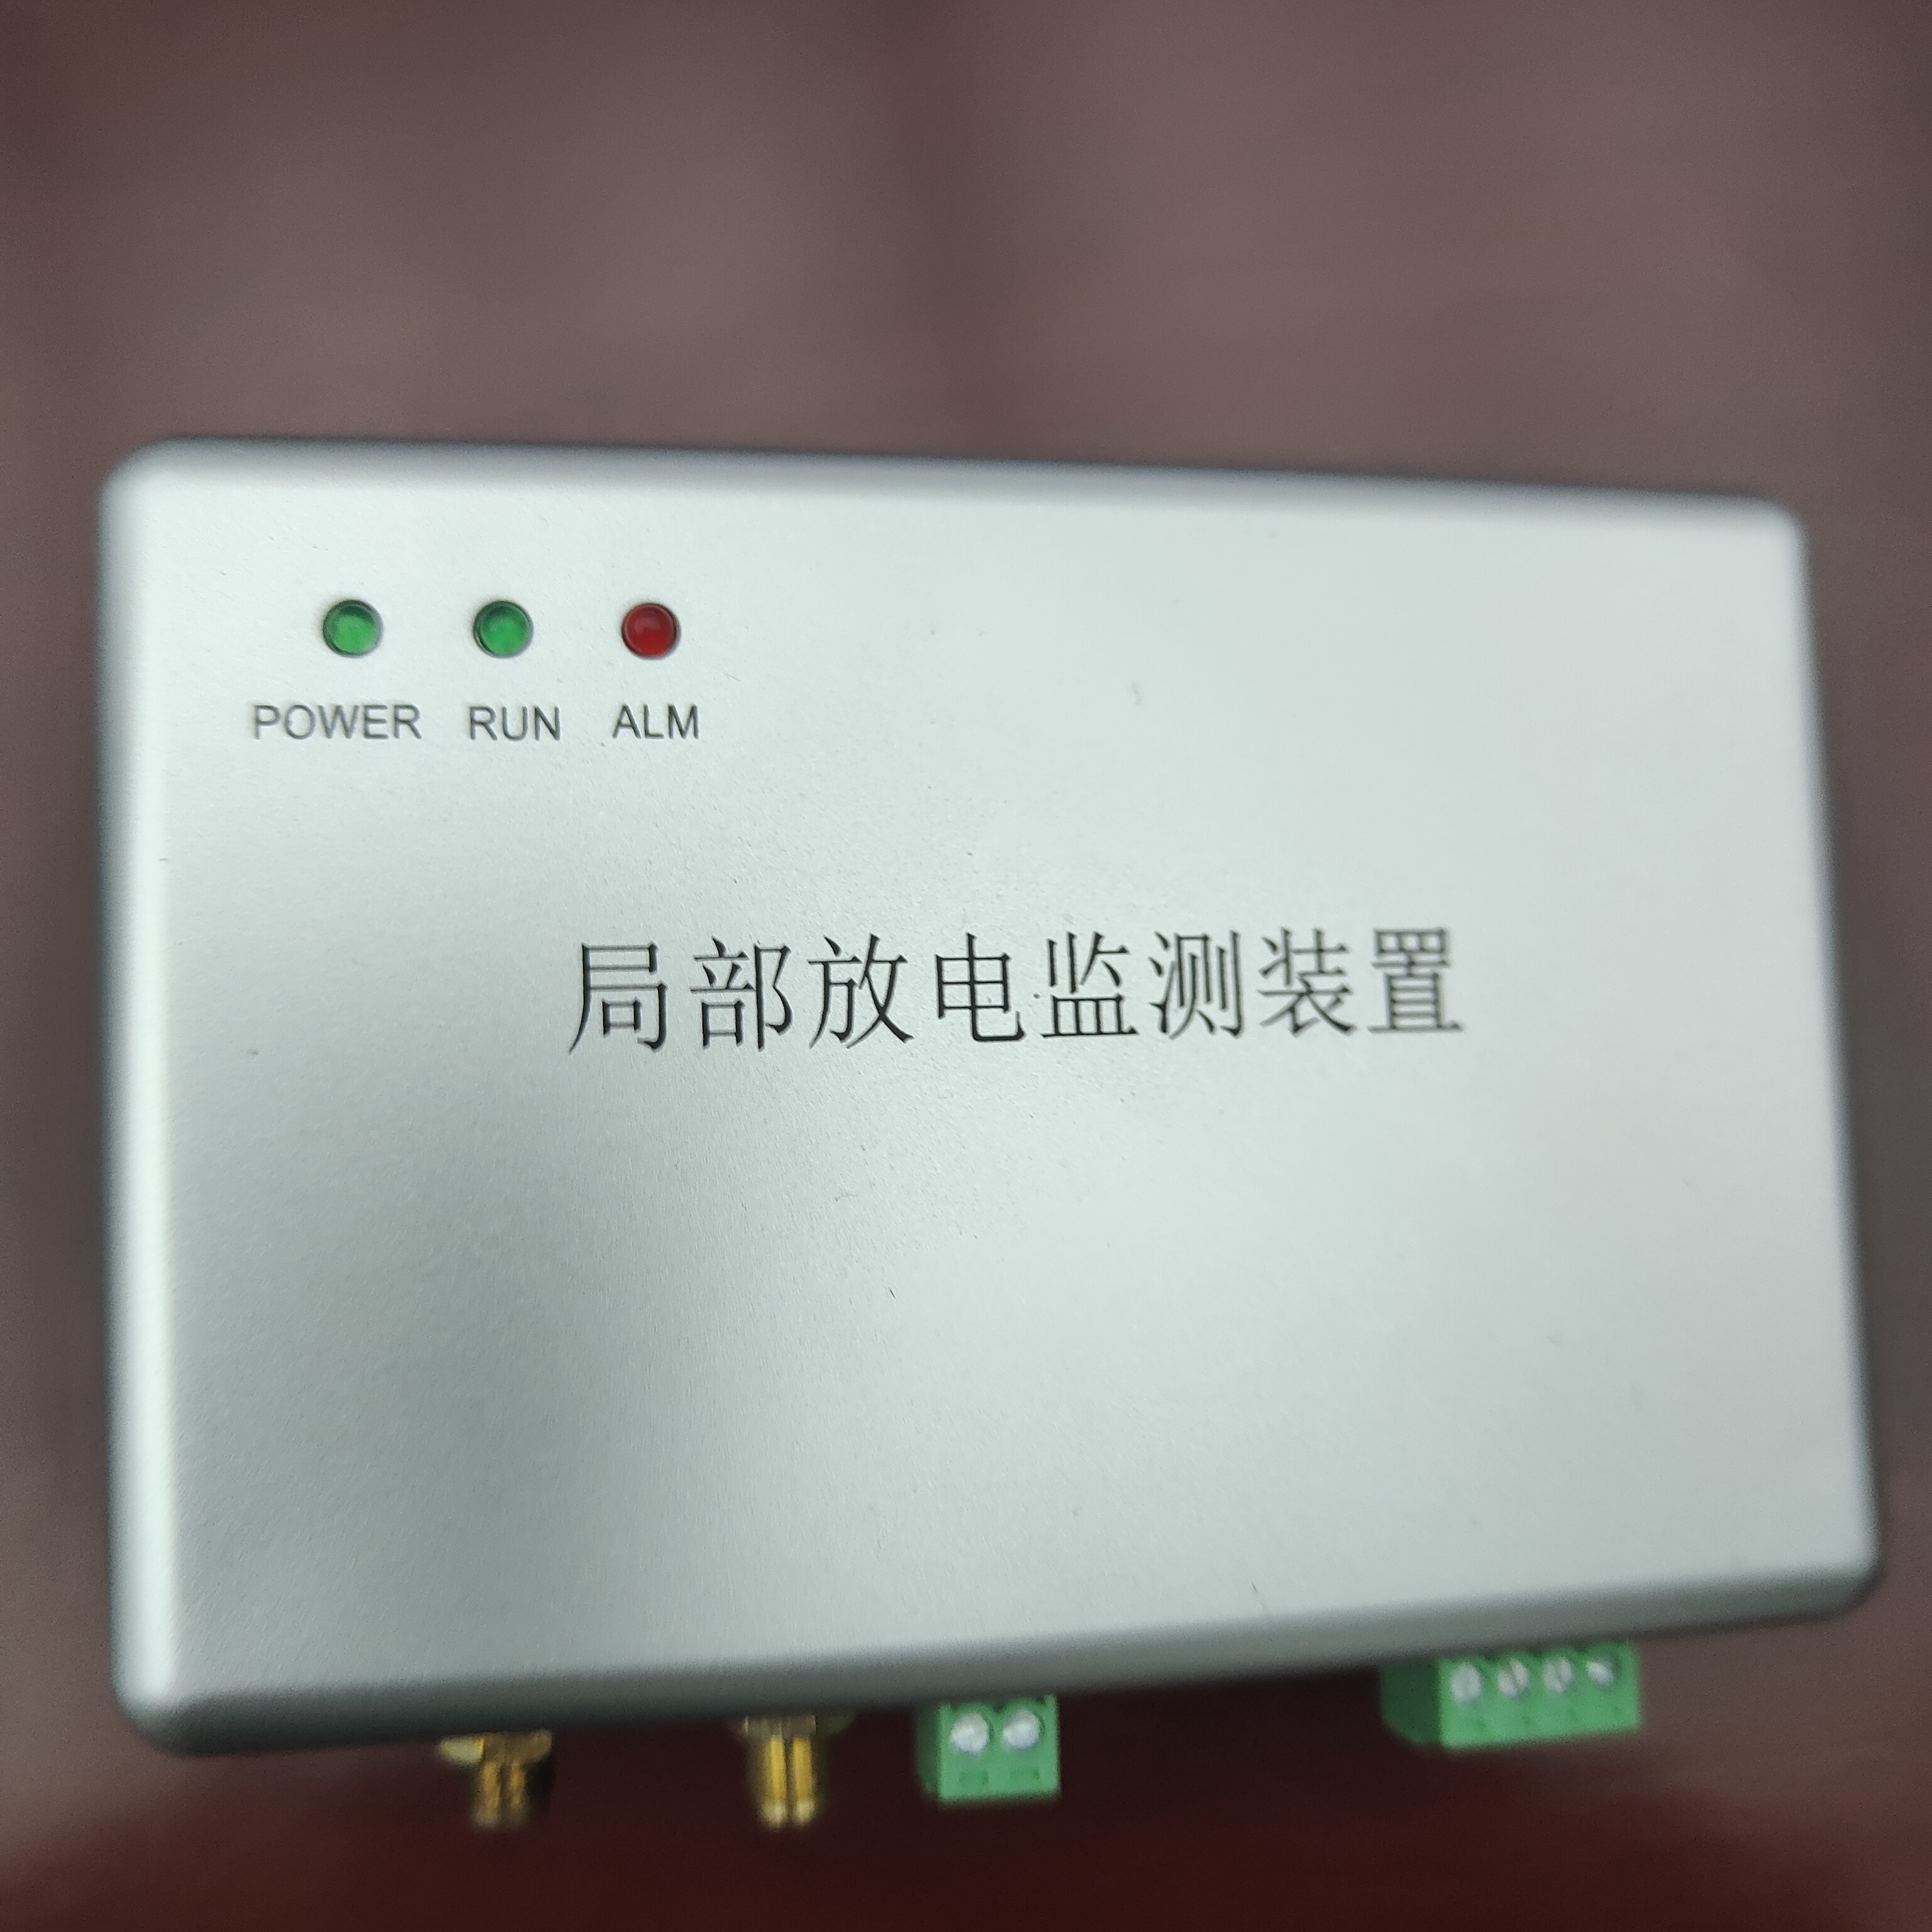jbfdjc: (58, 349, 1914, 1865)
